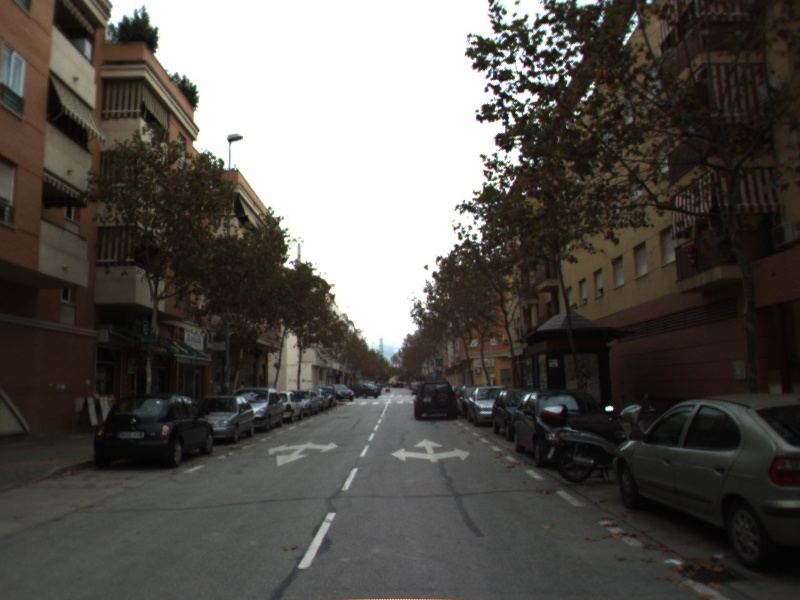STRAIGHT_LEFT_RIGHT: (390, 437, 473, 464)
